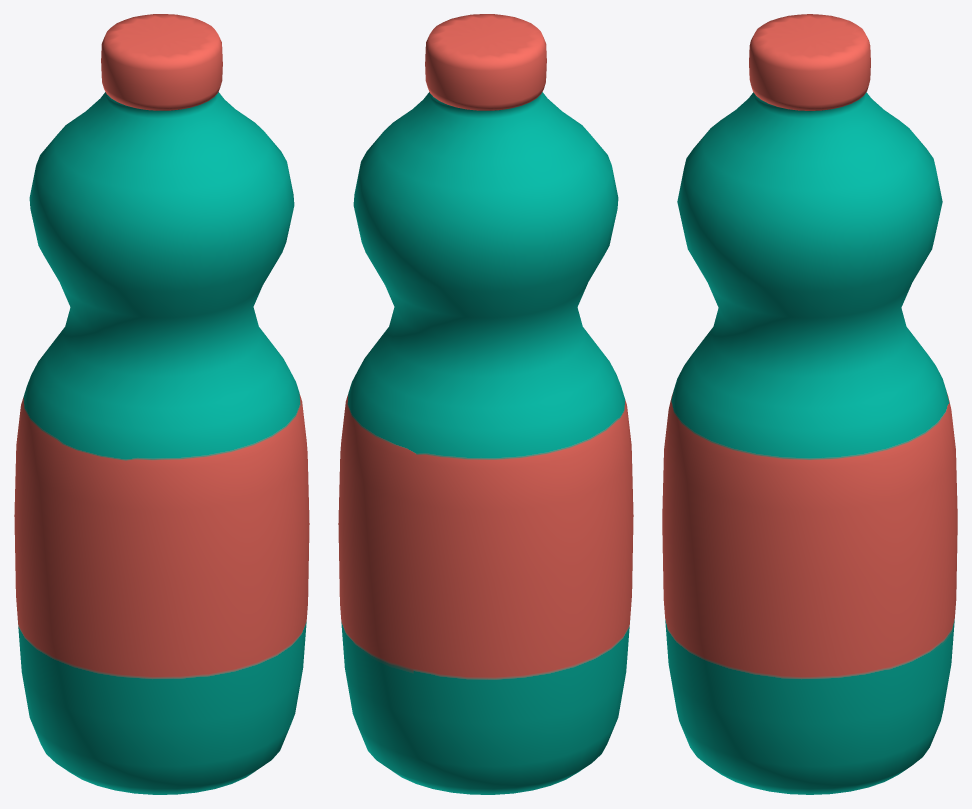
The model's file is bottle.glb.
3 views of the same model, side by side, from view 1: azimuth 30°, elevation 25°; view 2: azimuth 150°, elevation 25°; view 3: azimuth 270°, elevation 25° (orthographic).
Visible parts, largest first — view 1: detergents.005; view 2: detergents.005; view 3: detergents.005.
Boxes of the visible parts, bbox=[...] form: detergents.005: bbox=[14, 14, 309, 794]; detergents.005: bbox=[338, 14, 633, 794]; detergents.005: bbox=[662, 14, 957, 794].
Size of the model in its own units: 0.2132 by 0.5708 by 0.2132.
Materials: 1 (1 with a texture image).
